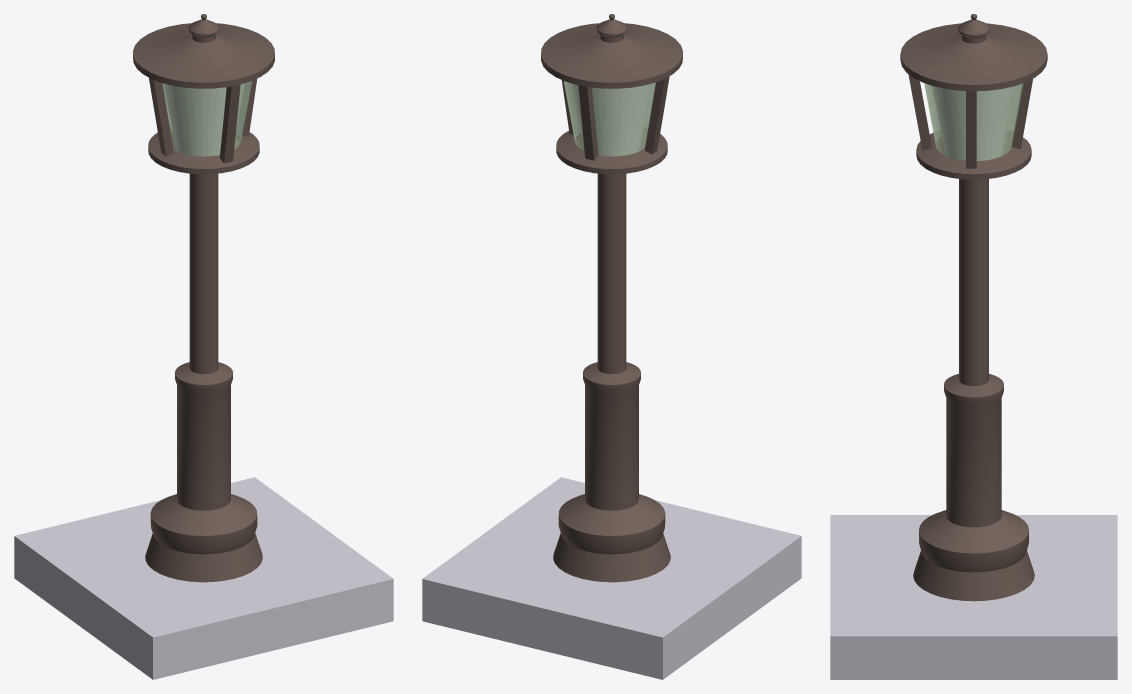
File: grass_light.fbx
The picture shows the model from 3 angles, left to right: view 1: azimuth 30°, elevation 25°; view 2: azimuth 150°, elevation 25°; view 3: azimuth 270°, elevation 25°; orthographic projection. The views are drawn at different scales.
Visible parts, largest first — view 1: white base.012, light; view 2: white base.012, light; view 3: light, white base.012.
Part boxes in pixels (x1,y1,x2,y2): white base.012: [14, 477, 393, 679]; light: [133, 14, 274, 582]; white base.012: [422, 477, 801, 679]; light: [541, 14, 682, 582]; light: [900, 14, 1047, 601]; white base.012: [830, 515, 1117, 679].
Size of the model in its own units: 144 by 336 by 144.
